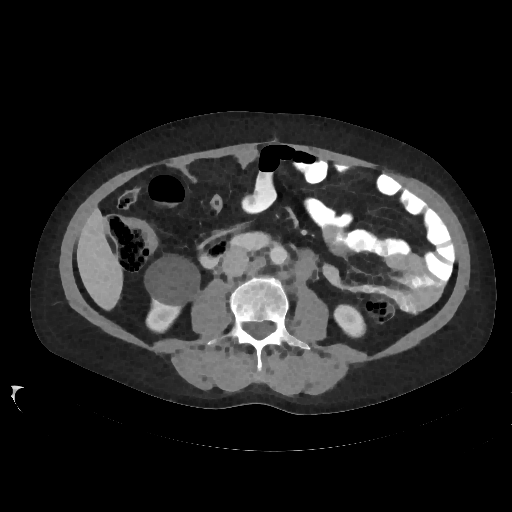Lesion: (141, 252, 203, 307)
